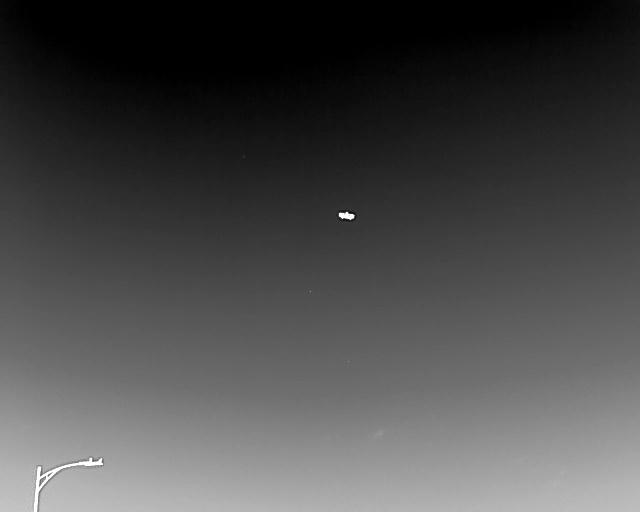fpv-drone: (336, 209, 356, 221)
